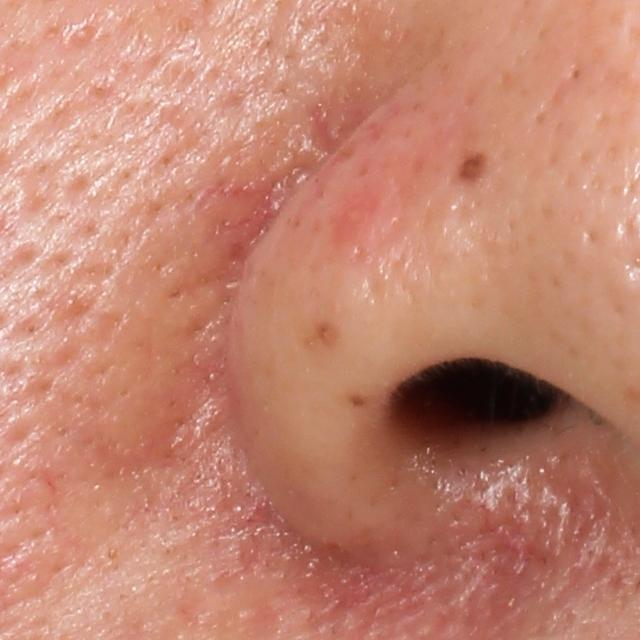nevus: (457, 148, 491, 183)
